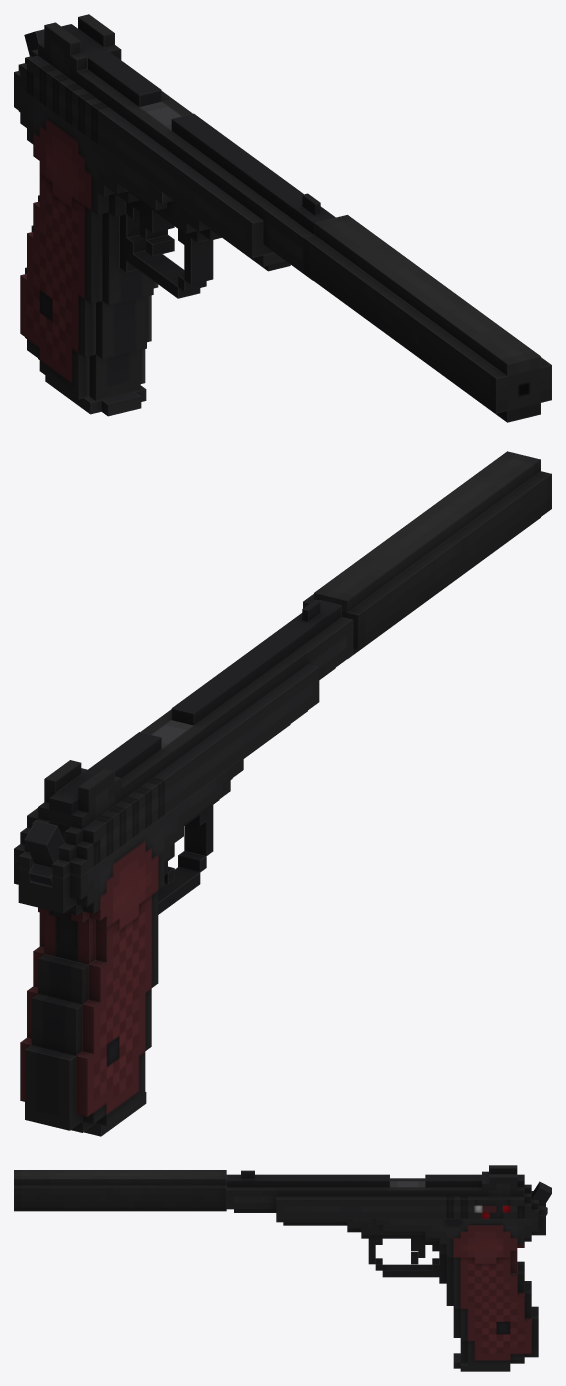
File: RD_STECHKIN.glb
3 renders of one model, top to bottom at view 1: azimuth 30°, elevation 25°; view 2: azimuth 150°, elevation 25°; view 3: azimuth 270°, elevation 25°, orthographic. The views are drawn at different scales.
Visible parts, largest first — view 1: APS, APS_FRAME, SILENCER_5X5, APS_CLIP; view 2: APS, APS_FRAME, SILENCER_5X5, APS_TRIGGER; view 3: APS, APS_FRAME, SILENCER_5X5, APS_CLIP, APS_TRIGGER.
Boxes of the visible parts, <box> form: APS: <box>14,84,290,401</box>; APS_FRAME: <box>14,14,335,280</box>; SILENCER_5X5: <box>303,215,551,422</box>; APS_CLIP: <box>45,375,146,416</box>; APS: <box>14,711,307,1132</box>; APS_FRAME: <box>14,599,353,878</box>; SILENCER_5X5: <box>303,451,551,658</box>; APS_TRIGGER: <box>24,820,64,885</box>; APS: <box>276,1181,545,1366</box>; APS_FRAME: <box>226,1165,545,1218</box>; SILENCER_5X5: <box>14,1170,226,1211</box>; APS_CLIP: <box>453,1353,510,1371</box>; APS_TRIGGER: <box>531,1181,551,1215</box>.
Size of the model in its own units: 0.0591 by 0.2953 by 0.7467.
Materials: 2 (2 with a texture image).
